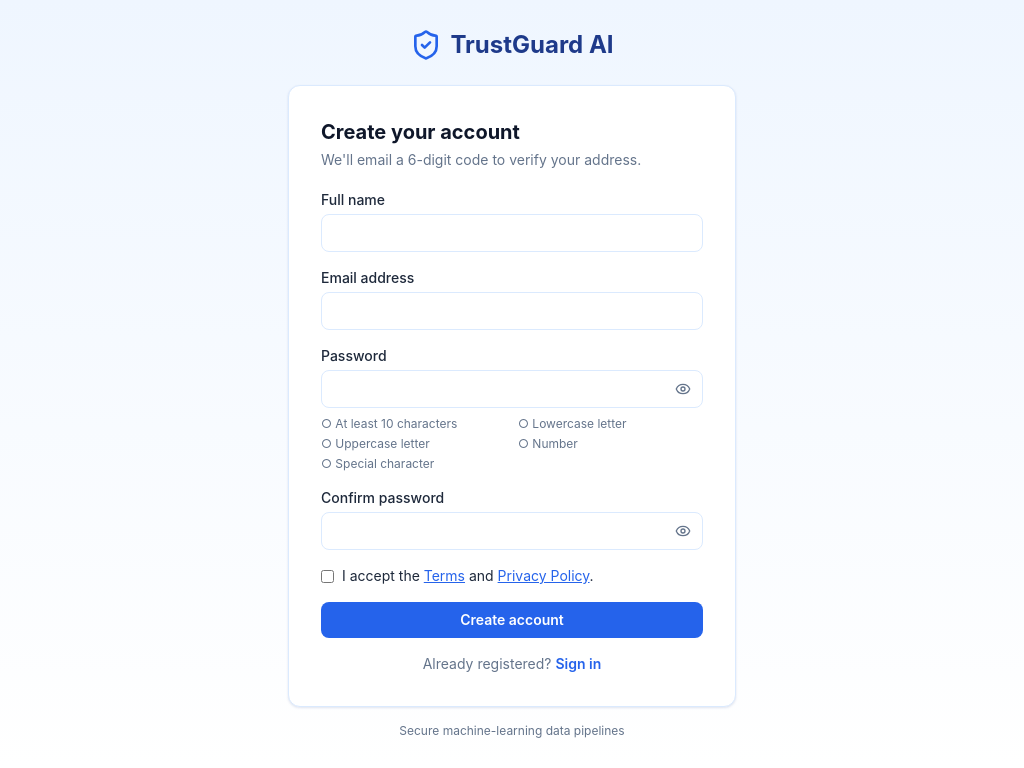
Test: registration › submits to the backend and stores only email + timing (never an OTP)
This screenshot has width=1024, height=768.
Type "Ada Lovelace" into the field labelled "Full name" at {"x": 512, "y": 233}, box [321,214,703,252]
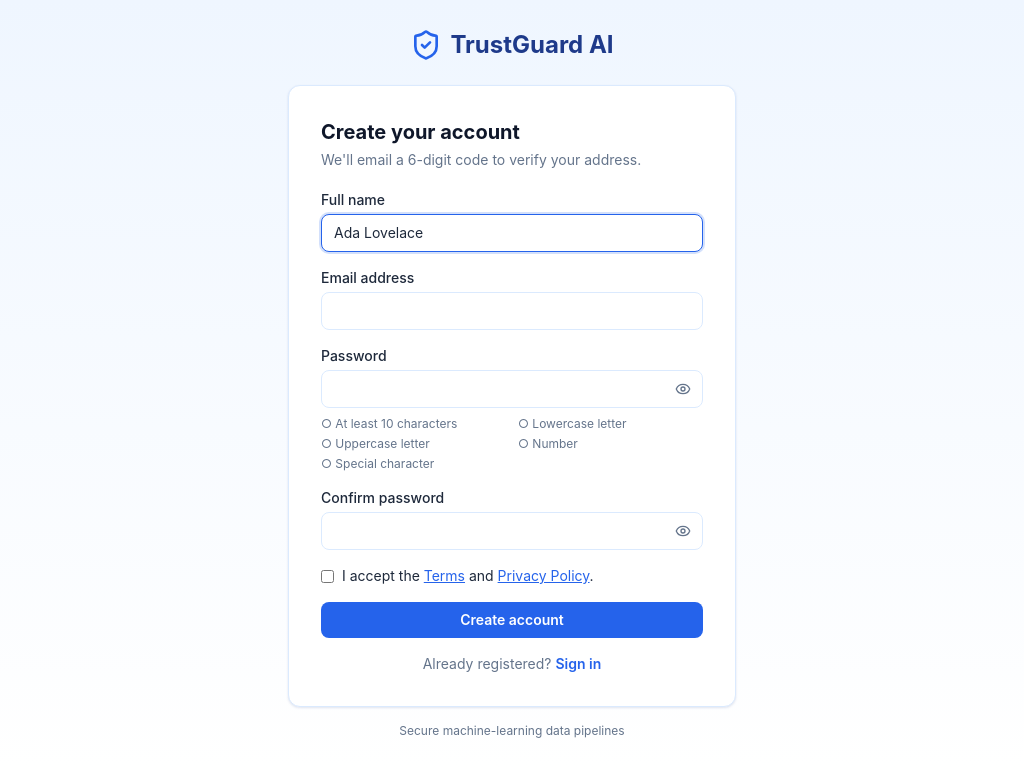
Type "Ada@Example.com" into the field labelled "Email address" at {"x": 512, "y": 311}, box [321,292,703,330]
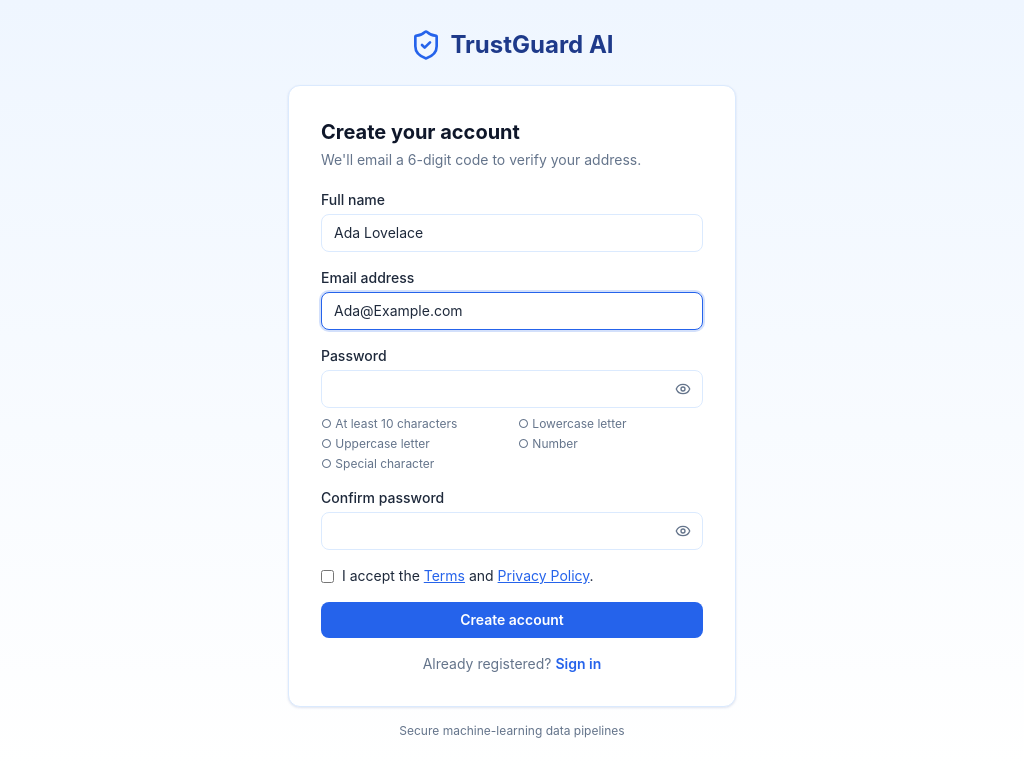
Type "Str0ng!Passw0rd" into the password field labelled "Password" at {"x": 512, "y": 389}, box [321,370,703,408]
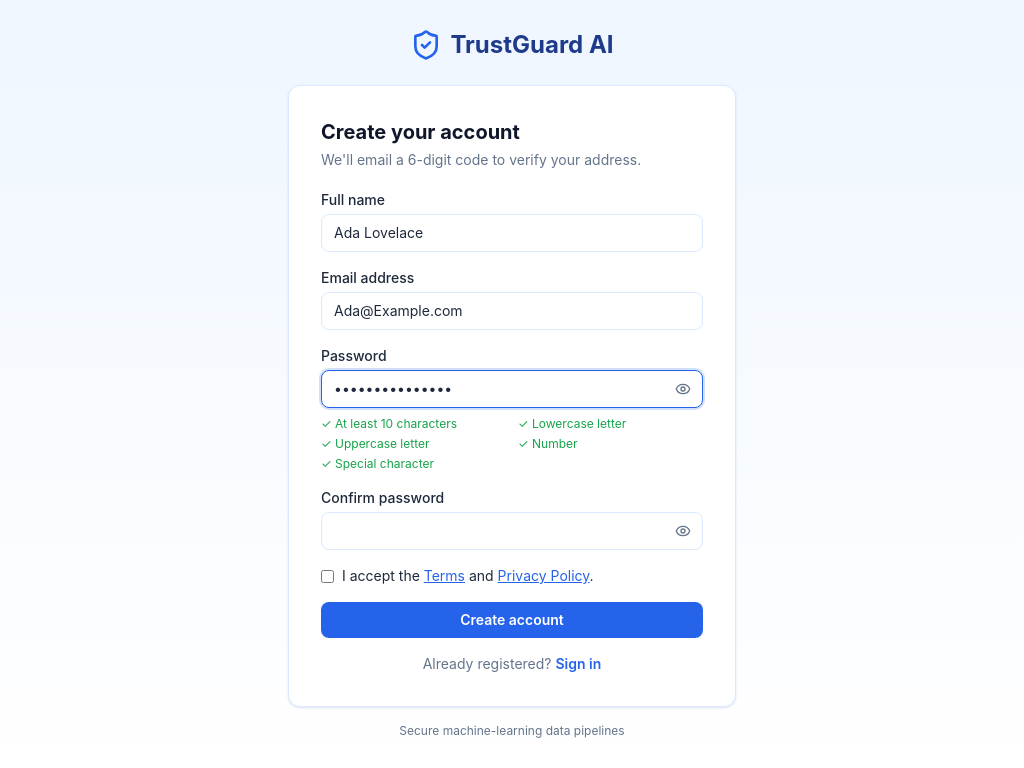
Type "Str0ng!Passw0rd" into the password field labelled "Confirm password" at {"x": 512, "y": 531}, box [321,512,703,550]
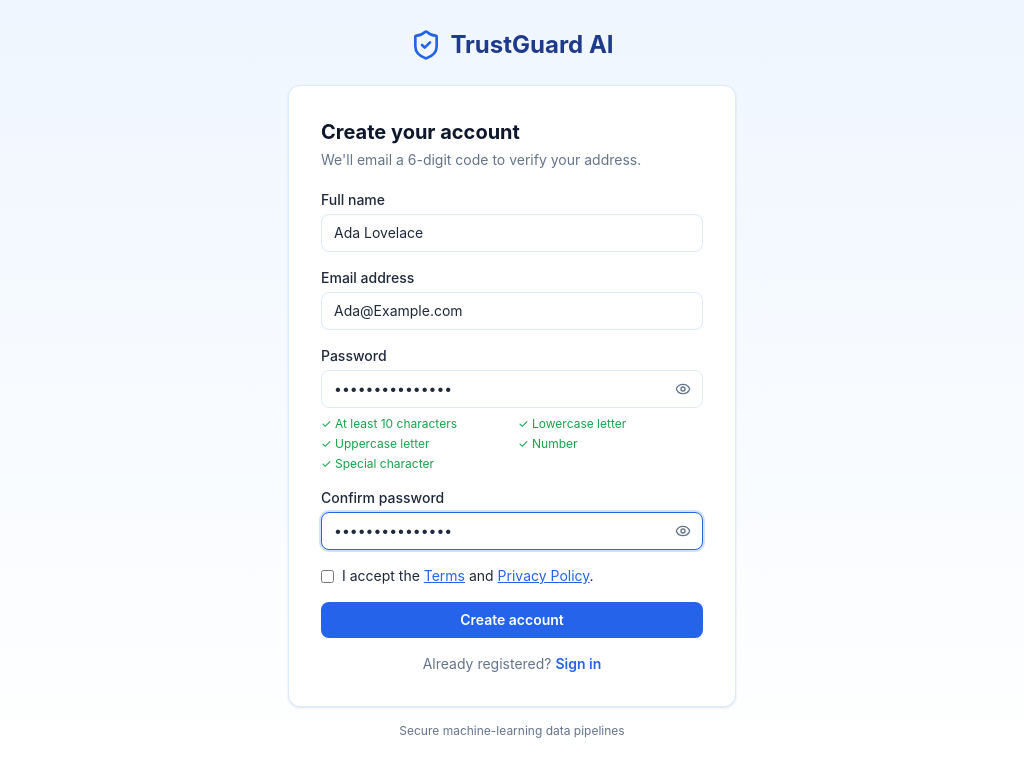
Click the checkbox at {"x": 328, "y": 576}, box [321,570,334,583]
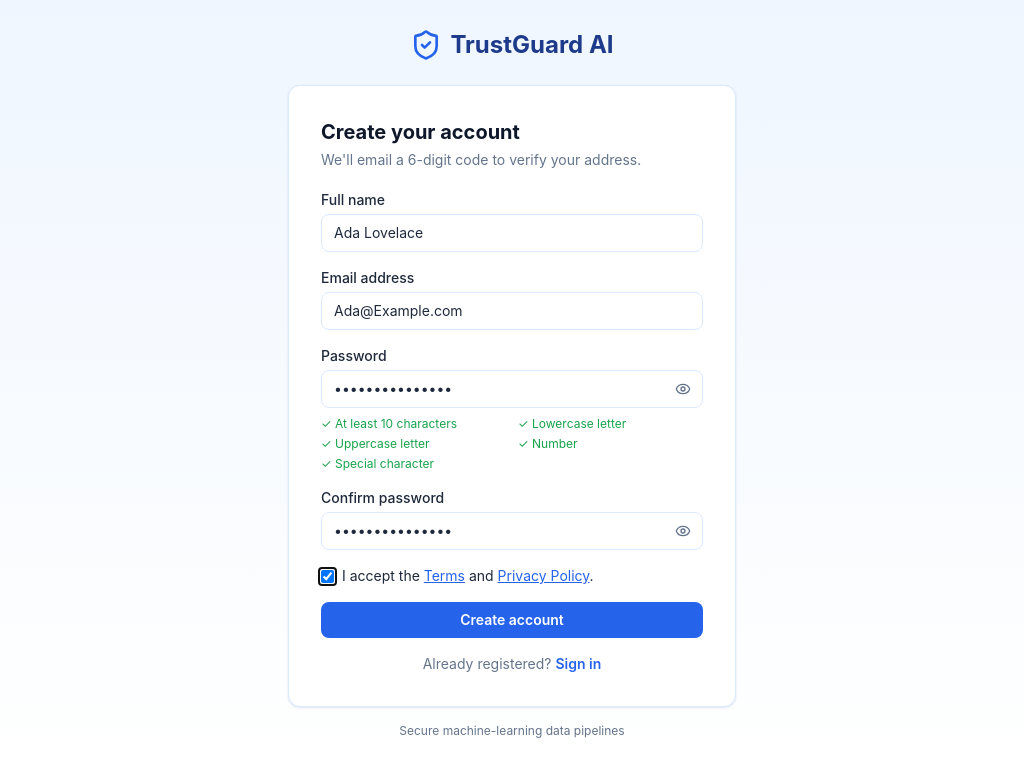
Click the button "Create account" at {"x": 512, "y": 620}, box [321,602,703,638]
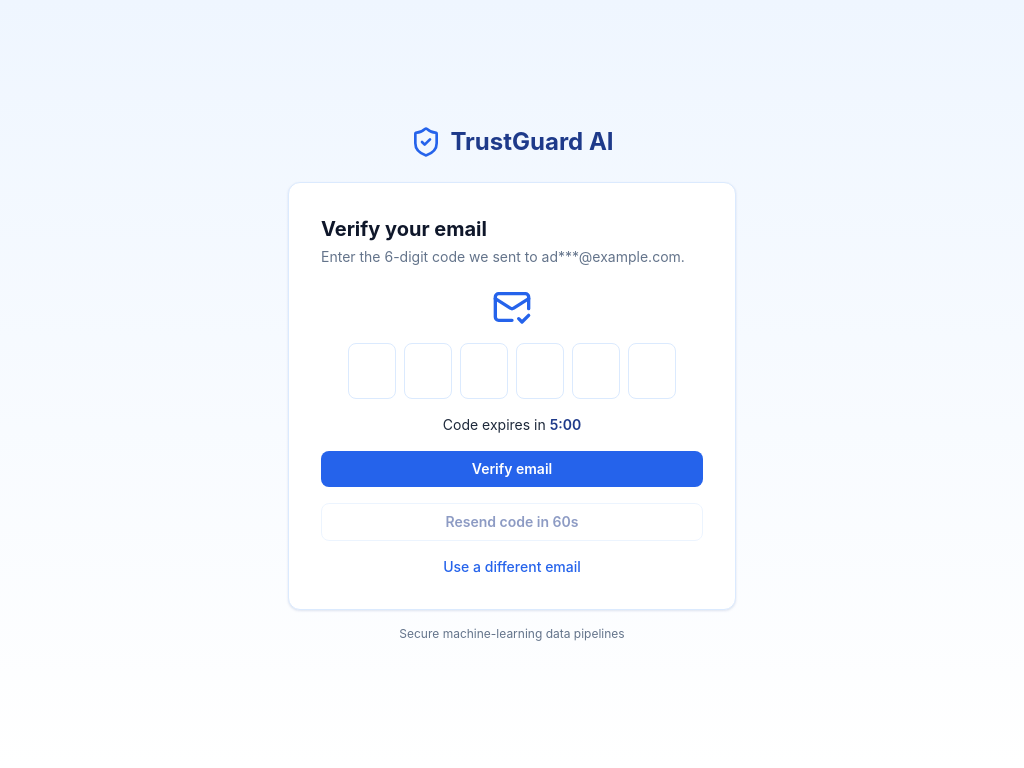
Now the heading "Verify your email" is shown, box [321,217,487,241]
